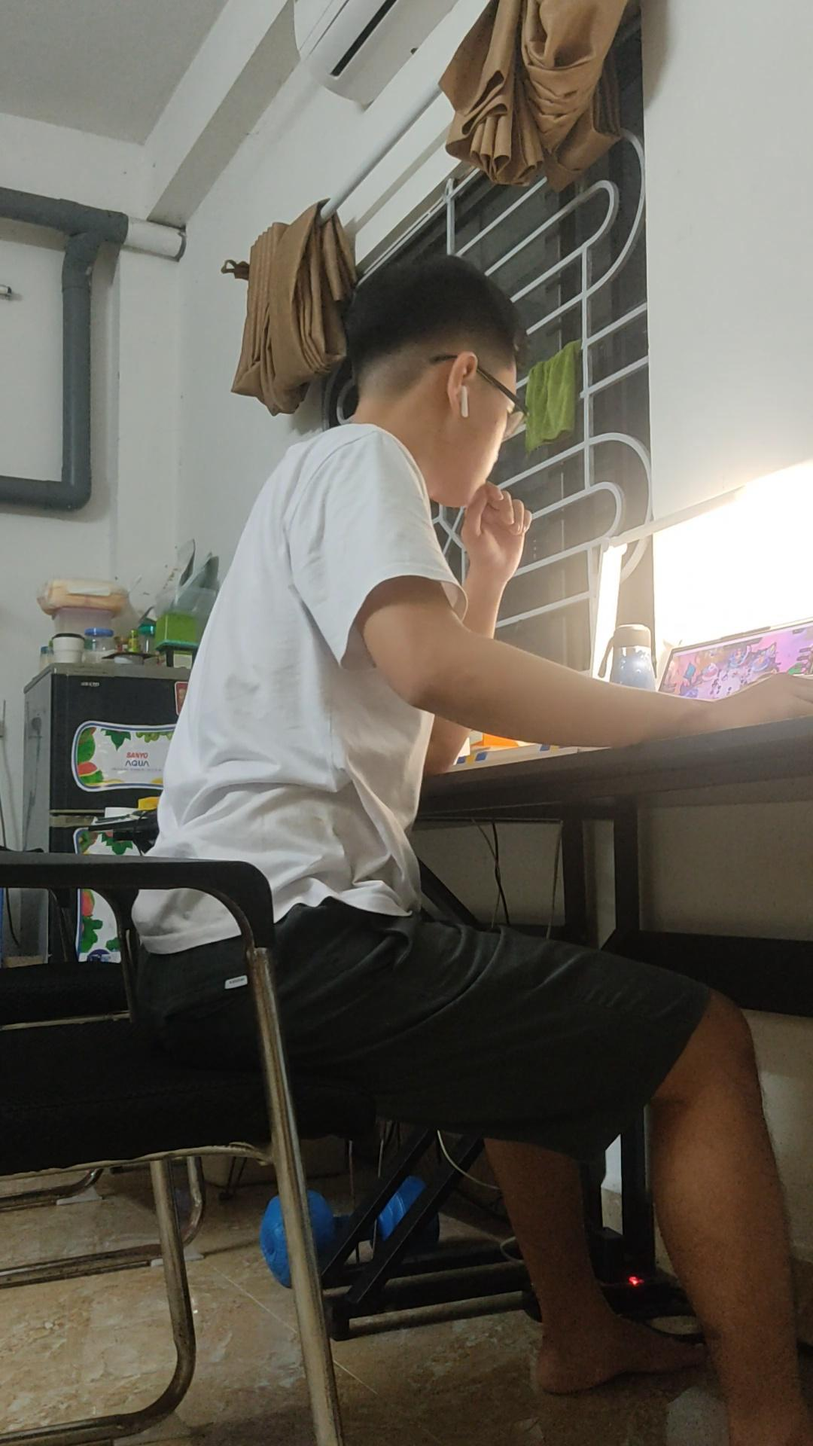GoodPosture: (294, 258, 812, 807), (324, 911, 812, 1445)
